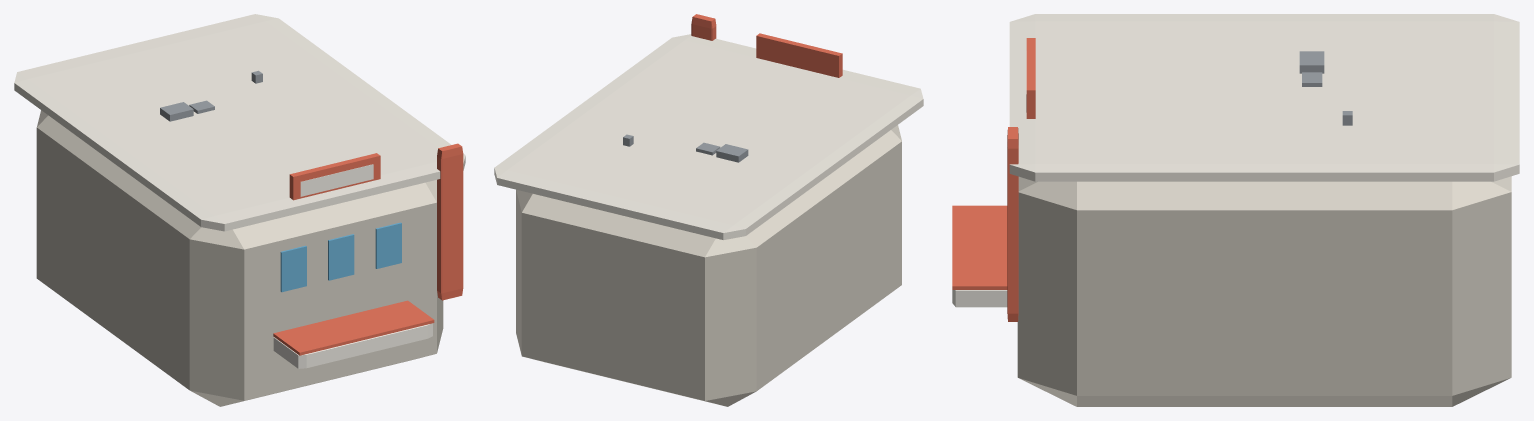
The model's file is theater.glb.
3 renders of one model, left to right at view 1: azimuth 30°, elevation 25°; view 2: azimuth 150°, elevation 25°; view 3: azimuth 270°, elevation 25°, orthographic. The views are drawn at different scales.
Visible parts, largest first — view 1: walls, cornice, blade, marqueetop, marquee2, roofsign, roofsigntx, poster, poster.001, poster.002, hvac; view 2: walls, cornice, roofsign, blade, hvac; view 3: walls, cornice, marqueetop, blade, marquee2, roofsign, hvac.
Boxes of the visible parts, x1,y1,x2,y2 form: walls: (36,110,443,406); cornice: (14,14,465,231); blade: (437,143,463,300); marqueetop: (273,300,434,355); marquee2: (273,323,432,368); roofsign: (289,153,380,200); roofsigntx: (300,164,373,196); poster: (280,245,306,292); poster.001: (328,234,354,280); poster.002: (375,222,401,268); hvac: (160,102,193,121); walls: (516,125,901,406); cornice: (494,34,923,240); roofsign: (756,33,842,77); blade: (691,14,716,40); hvac: (716,144,748,162); walls: (1017,176,1511,406); cornice: (1009,14,1519,181); marqueetop: (952,205,1007,289); blade: (1007,127,1018,321); marquee2: (952,290,1007,307); roofsign: (1026,38,1035,118); hvac: (1299,51,1324,73).
Bounding box in the file's own units: 16.7 × 14 × 25.25.
